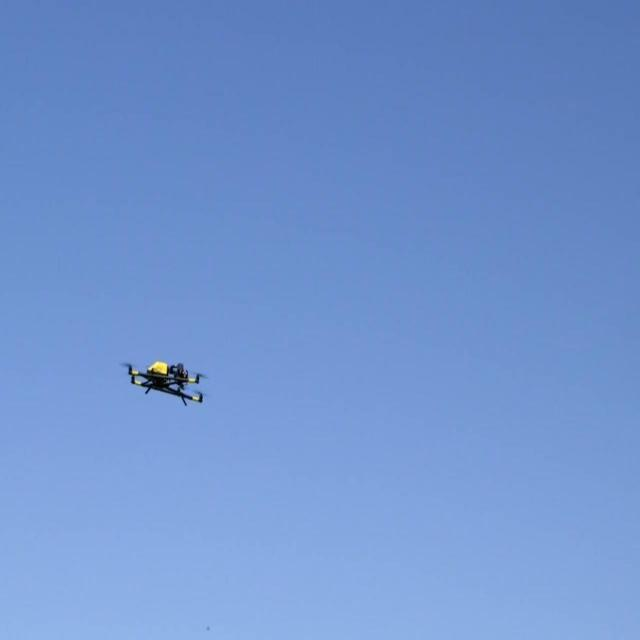UAV: (119, 362, 209, 406)
